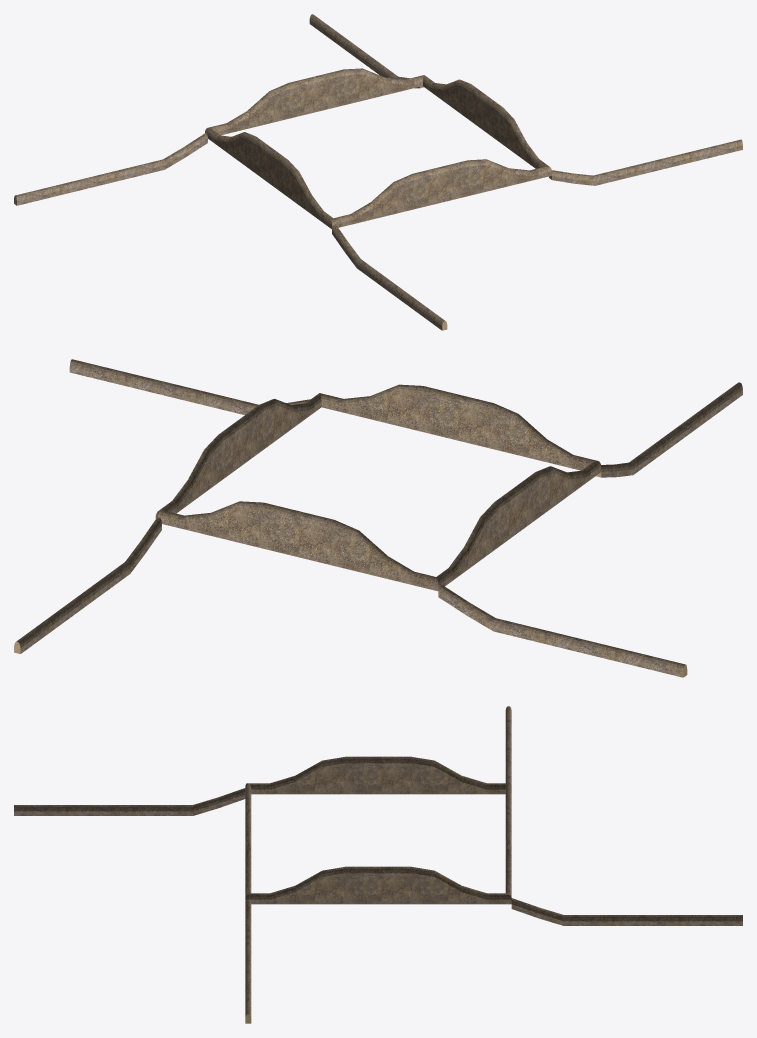
File: domroof2.fbx
3 views of the same model, one above another, from view 1: azimuth 30°, elevation 25°; view 2: azimuth 150°, elevation 25°; view 3: azimuth 270°, elevation 25° (orthographic). The views are drawn at different scales.
Parts seen in each view (by area): view 1: domroof2; view 2: domroof2; view 3: domroof2.
Boxes of the visible parts, bbox=[...] form: domroof2: bbox=[14, 14, 742, 330]; domroof2: bbox=[14, 359, 742, 677]; domroof2: bbox=[14, 706, 742, 1023].
Size of the model in its own units: 280002 by 24400 by 280002.
